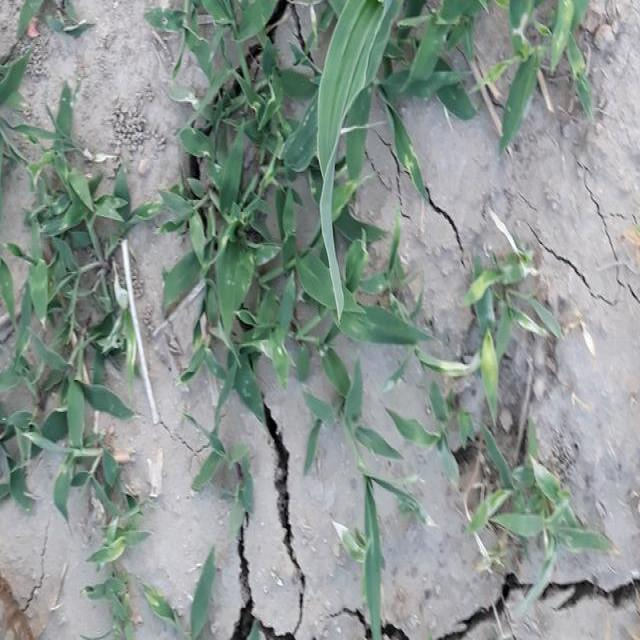weed: (178, 0, 439, 461), (0, 125, 146, 598)
